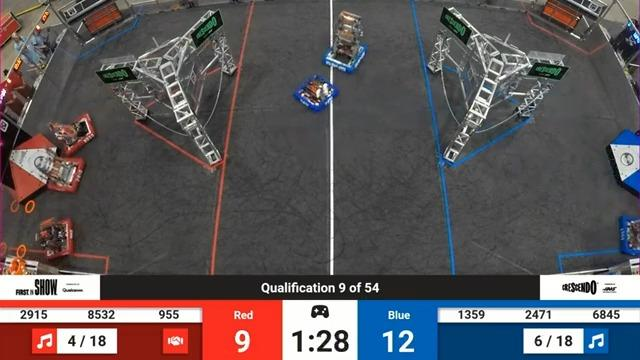robot: (319, 8, 371, 73), (31, 149, 91, 196), (26, 213, 84, 261), (46, 108, 98, 156), (293, 74, 342, 112), (617, 204, 640, 264)
